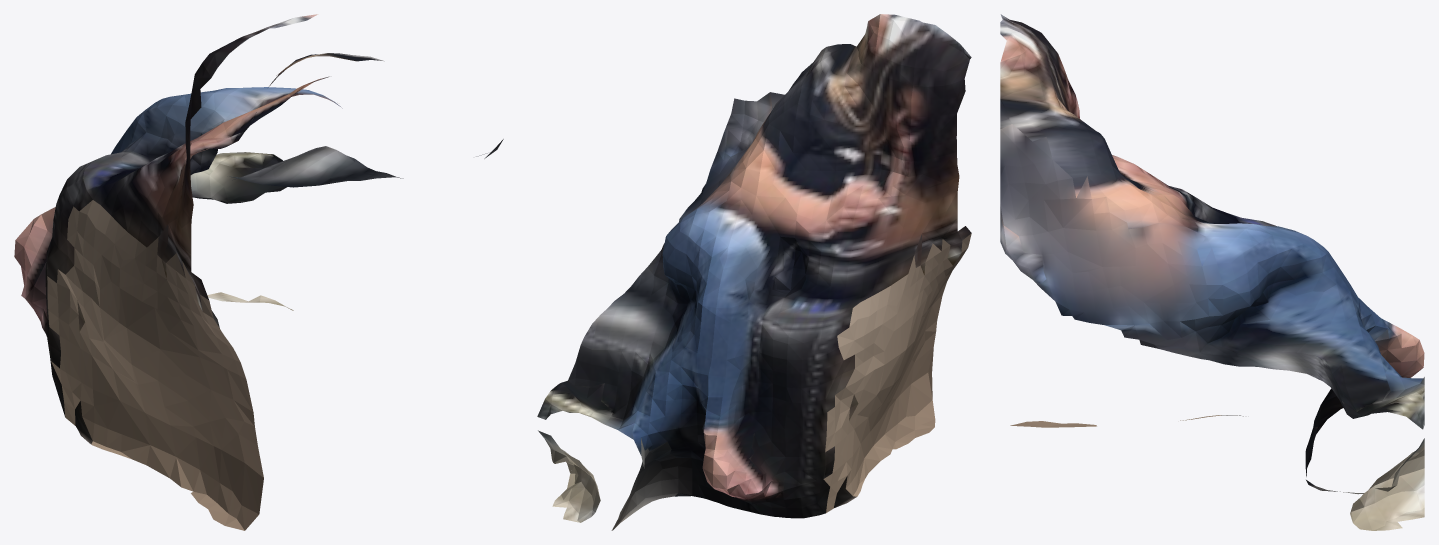
3 views of the same model, side by side, from view 1: azimuth 30°, elevation 25°; view 2: azimuth 150°, elevation 25°; view 3: azimuth 270°, elevation 25° (orthographic). The views are drawn at different scales.
Bounding box in the file's own units: 0.6296 × 0.9979 × 0.9259.
Materials: 1 (1 with a texture image).
